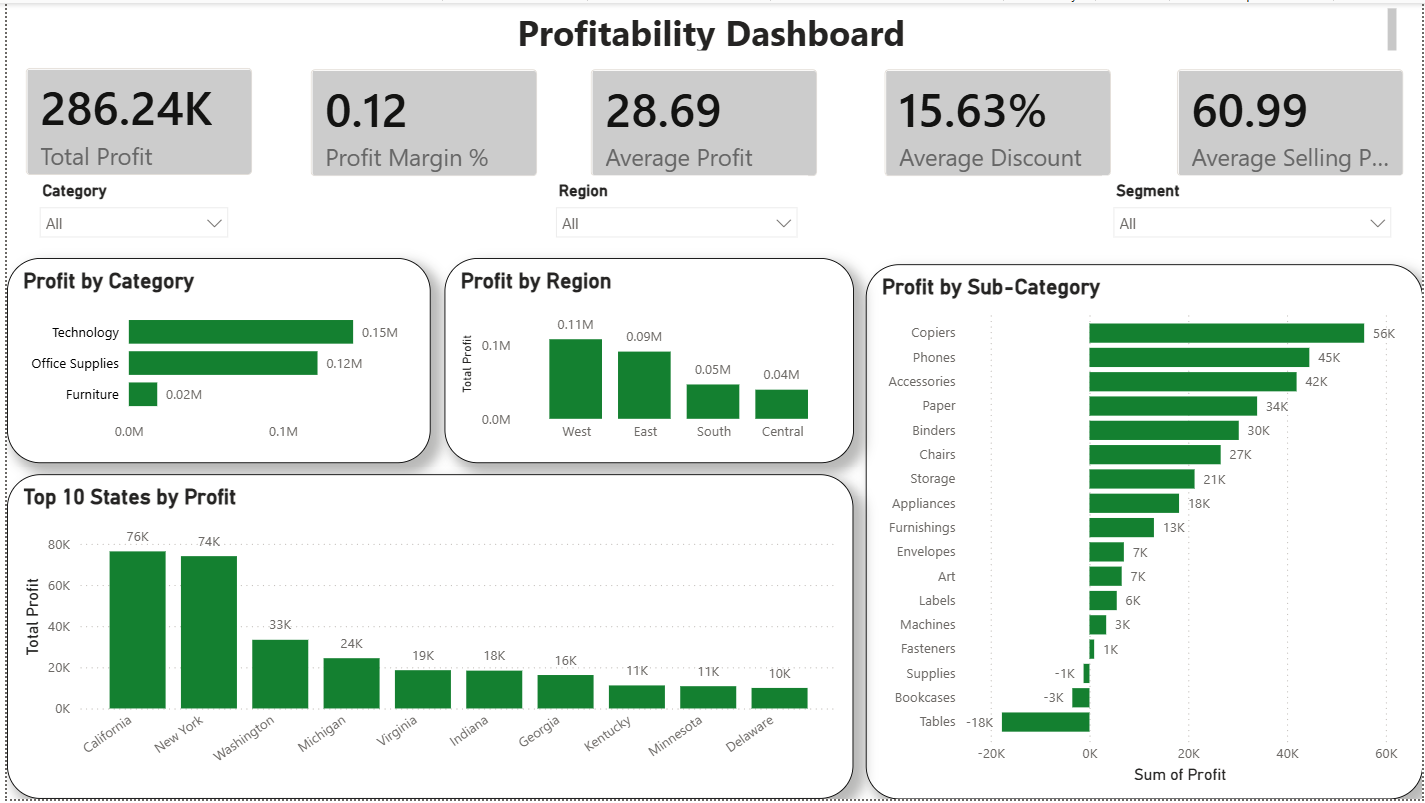

This screenshot's page, from the dashboard's own definition file:
{"tool":"powerbi","page":{"name":"Page 2","canvas":[1280,720],"ordinal":1},"visuals":[{"type":"clusteredBarChart","title":"Profit by Sub-Category","fields":{"Category":["SampleSuperstore_Feature_Engineered.Sub-Category"],"Y":["Sum(SampleSuperstore_Feature_Engineered.Profit)"]},"box":[776.7,236,503.6,484.4],"z":0},{"type":"cardVisual","fields":{"Data":["SampleSuperstore_Feature_Engineered.Total Profit"]},"box":[0,41.8,239.1,131.1],"z":1000},{"type":"cardVisual","fields":{"Data":["SampleSuperstore_Feature_Engineered.Profit Margin %"]},"box":[257.8,43.2,239.1,131.1],"z":2000},{"type":"textbox","box":[18.7,0,1242.8,51.8],"z":3000},{"type":"cardVisual","fields":{"Data":["SampleSuperstore_Feature_Engineered.Average Profit"]},"box":[511.3,43.2,239.1,131.1],"z":4000},{"type":"cardVisual","fields":{"Data":["SampleSuperstore_Feature_Engineered.Average Discount"]},"box":[776.2,43.2,239.1,131.1],"z":5000},{"type":"cardVisual","fields":{"Data":["SampleSuperstore_Feature_Engineered.Average Selling Price"]},"box":[1041.2,43.2,239.1,131.1],"z":6000},{"type":"clusteredBarChart","title":"Profit by Category","fields":{"Category":["SampleSuperstore_Feature_Engineered.Category"],"Y":["SampleSuperstore_Feature_Engineered.Total Profit"]},"box":[0,230.5,382.8,185.2],"z":7000},{"type":"clusteredColumnChart","title":"Profit by Region","fields":{"Category":["SampleSuperstore_Feature_Engineered.Region"],"Y":["SampleSuperstore_Feature_Engineered.Total Profit"]},"box":[395.2,230.5,370.5,185.2],"z":8000},{"type":"clusteredColumnChart","title":"Top 10 States by Profit","fields":{"Y":["SampleSuperstore_Feature_Engineered.Total Profit"],"Category":["SampleSuperstore_Feature_Engineered.State"]},"box":[0,426.8,765.7,293.7],"z":9000},{"type":"slicer","fields":{"Values":["SampleSuperstore_Feature_Engineered.Category"]},"box":[19.2,156.4,190.7,60.4],"z":10000},{"type":"slicer","fields":{"Values":["SampleSuperstore_Feature_Engineered.Region"]},"box":[485.8,156.4,238.8,60.4],"z":11000},{"type":"slicer","fields":{"Values":["SampleSuperstore_Feature_Engineered.Segment"]},"box":[990.7,156.4,271.7,60.4],"z":12000}]}

Visuals, with their boxes in screenshot pixels (x1, y1, x2, y2), scaled from the page's 1280x720 canvas onto the 1425x803 screenshot:
"Profit by Sub-Category" clusteredBarChart: (865,263,1424,802)
cardVisual - SampleSuperstore_Feature_Engineered.Total Profit: (0,47,266,193)
cardVisual - SampleSuperstore_Feature_Engineered.Profit Margin %: (287,48,553,194)
textbox: (21,0,1404,58)
cardVisual - SampleSuperstore_Feature_Engineered.Average Profit: (569,48,835,194)
cardVisual - SampleSuperstore_Feature_Engineered.Average Discount: (864,48,1130,194)
cardVisual - SampleSuperstore_Feature_Engineered.Average Selling Price: (1159,48,1424,194)
"Profit by Category" clusteredBarChart: (0,257,426,464)
"Profit by Region" clusteredColumnChart: (440,257,852,464)
"Top 10 States by Profit" clusteredColumnChart: (0,476,852,802)
slicer - SampleSuperstore_Feature_Engineered.Category: (21,174,234,242)
slicer - SampleSuperstore_Feature_Engineered.Region: (541,174,807,242)
slicer - SampleSuperstore_Feature_Engineered.Segment: (1103,174,1405,242)
